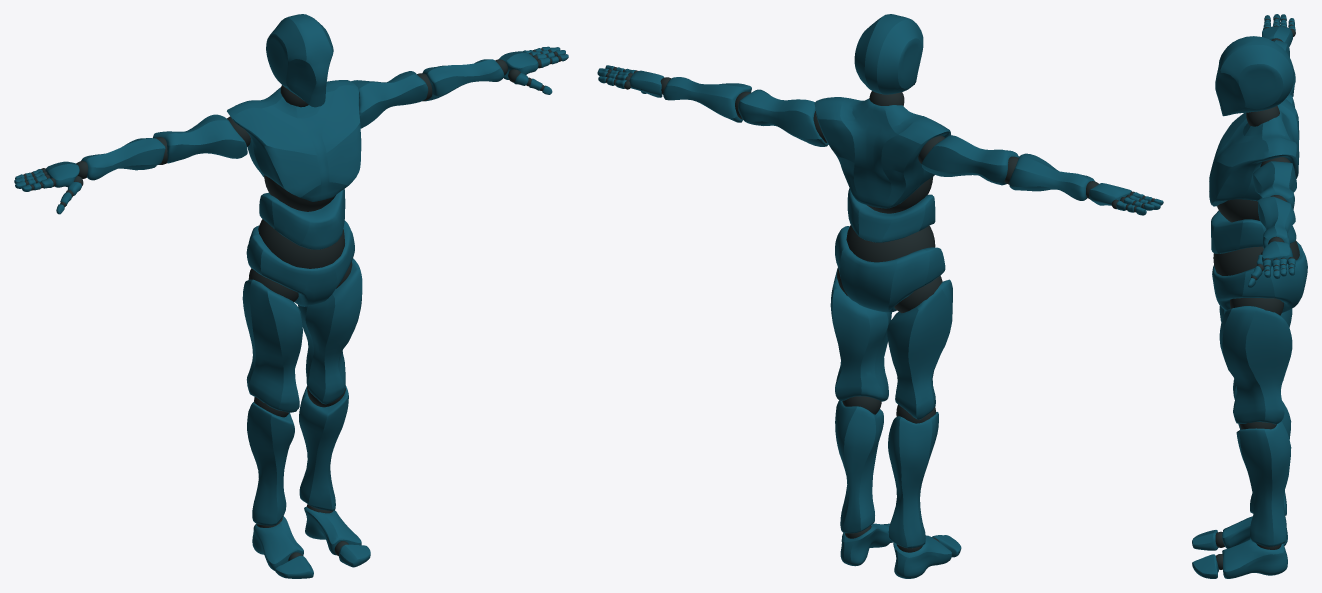
The model's file is ybot.glb.
The picture shows the model from 3 angles, left to right: view 1: azimuth 30°, elevation 25°; view 2: azimuth 150°, elevation 25°; view 3: azimuth 270°, elevation 25°; orthographic projection. The views are drawn at different scales.
Parts seen in each view (by area): view 1: node_id71, node_id73; view 2: node_id71, node_id73; view 3: node_id71, node_id73.
Part boxes in pixels (x1,y1,x2,y2): node_id71: [14, 14, 568, 578]; node_id73: [23, 48, 561, 560]; node_id71: [597, 14, 1163, 578]; node_id73: [605, 67, 1154, 552]; node_id71: [1192, 14, 1307, 578]; node_id73: [1213, 17, 1299, 569].
Size of the model in its own units: 0.512 by 0.4746 by 0.0958.
2 materials, 2 textured.
